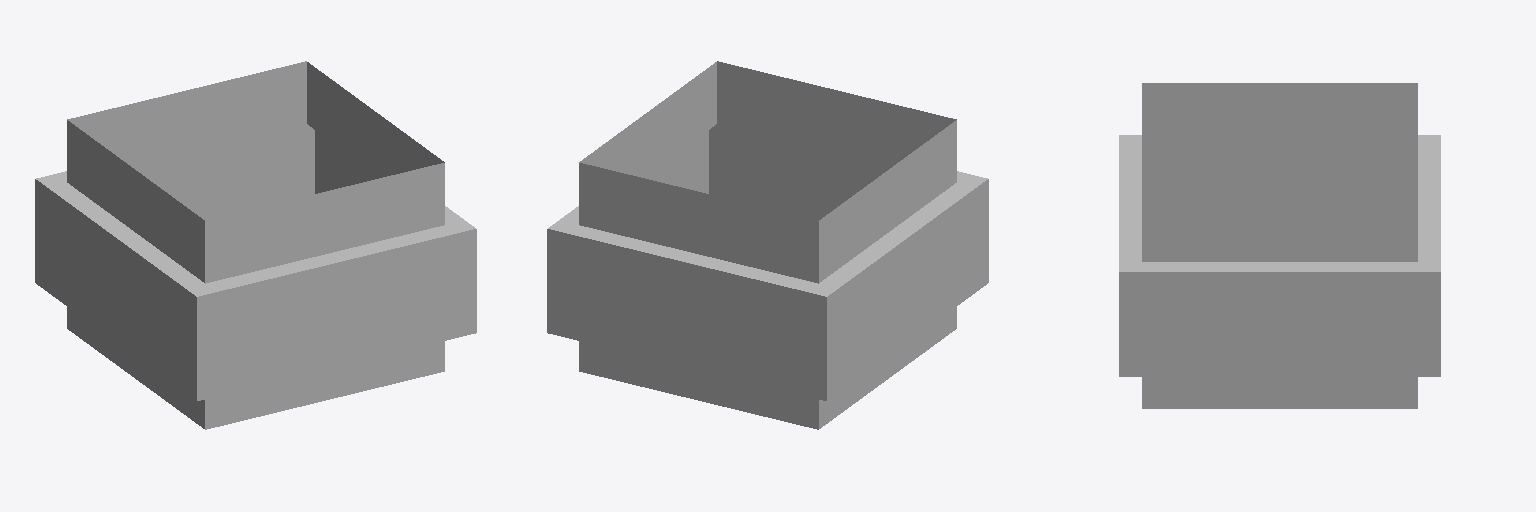
File: egg_hatched_inner.obj
The picture shows the model from 3 angles: view 1: azimuth 30°, elevation 25°; view 2: azimuth 150°, elevation 25°; view 3: azimuth 270°, elevation 25°; orthographic projection.
Parts seen in each view (by area): view 1: dragon_egg_hatched_egg_test2.002; view 2: dragon_egg_hatched_egg_test2.002; view 3: dragon_egg_hatched_egg_test2.002.
Part boxes in pixels (x1,y1,x2,y2): dragon_egg_hatched_egg_test2.002: (35, 61, 476, 429); dragon_egg_hatched_egg_test2.002: (547, 61, 988, 429); dragon_egg_hatched_egg_test2.002: (1119, 83, 1440, 408).
Size of the model in its own units: 0.875 by 0.6875 by 0.875.